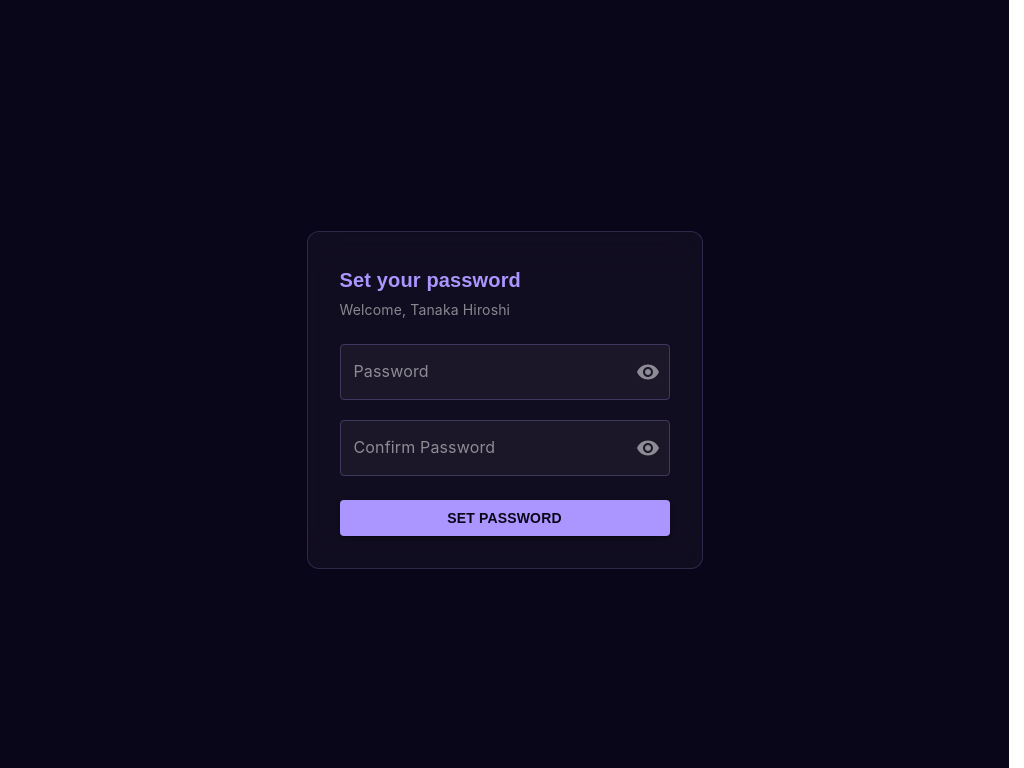
Test case: SetPassword › valid token › shows a validation error when passwords do not match
The width and height of the screenshot is (1024, 768).
In the password field labelled "Password": x=480, y=372 [340, 344, 620, 400], type "ValidPass1!"
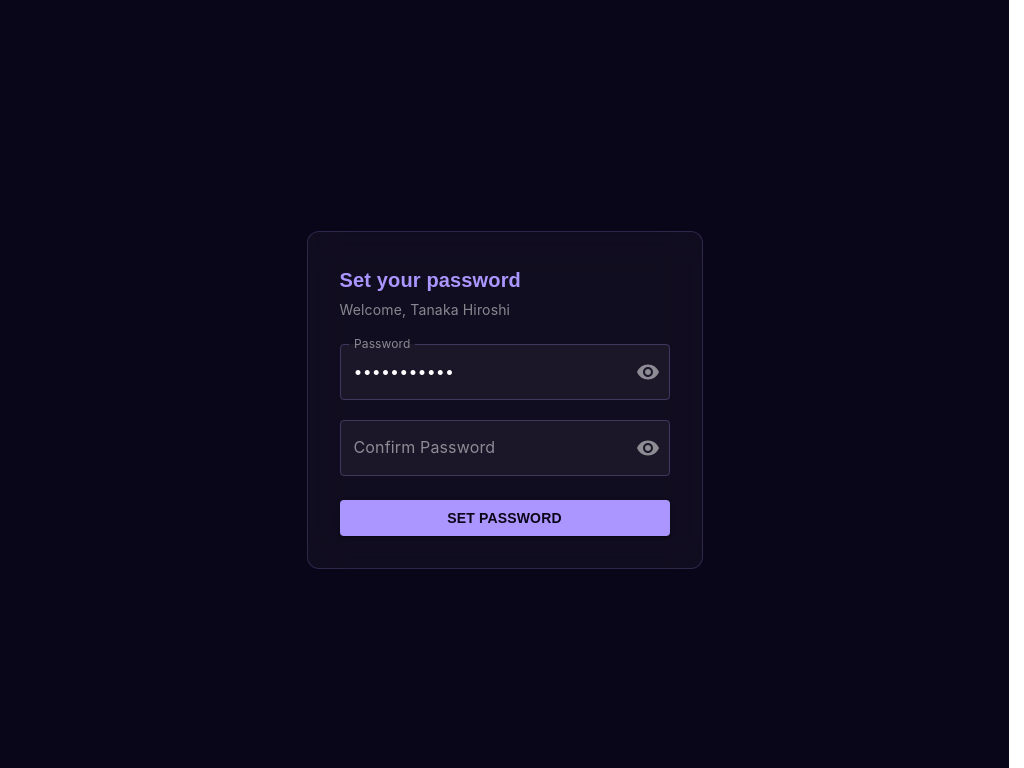
In the password field labelled "Confirm Password": x=480, y=448 [340, 420, 620, 476], type "DifferentPass2!"
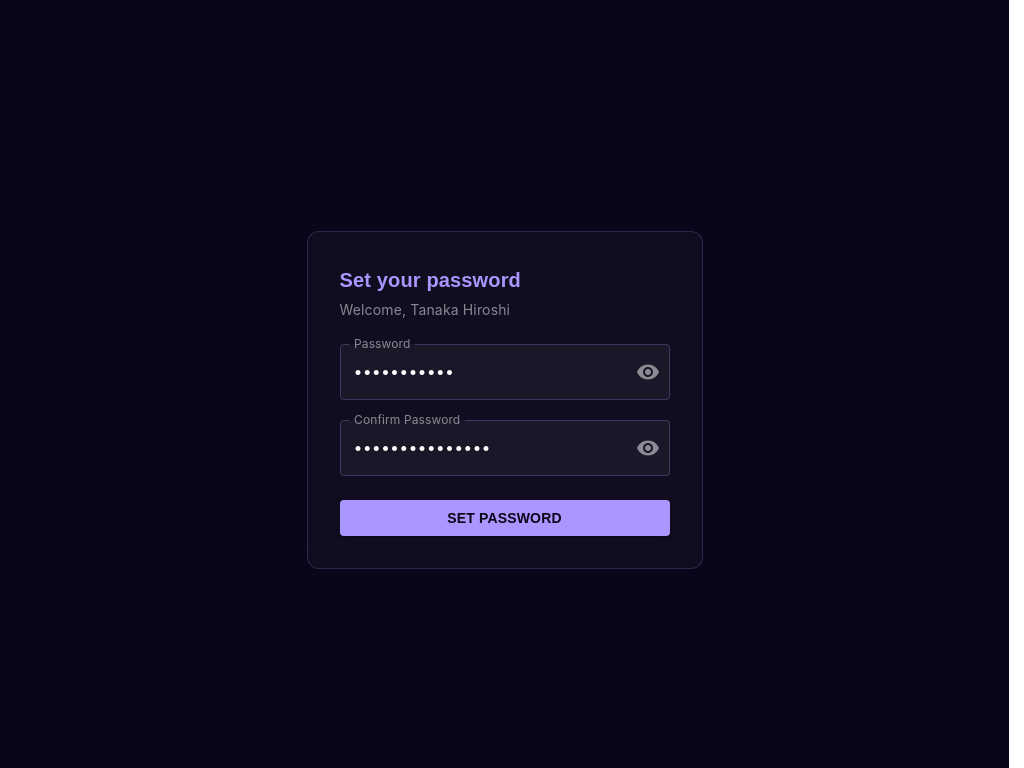
Click the button "Set password": x=504, y=518 [340, 500, 670, 536]
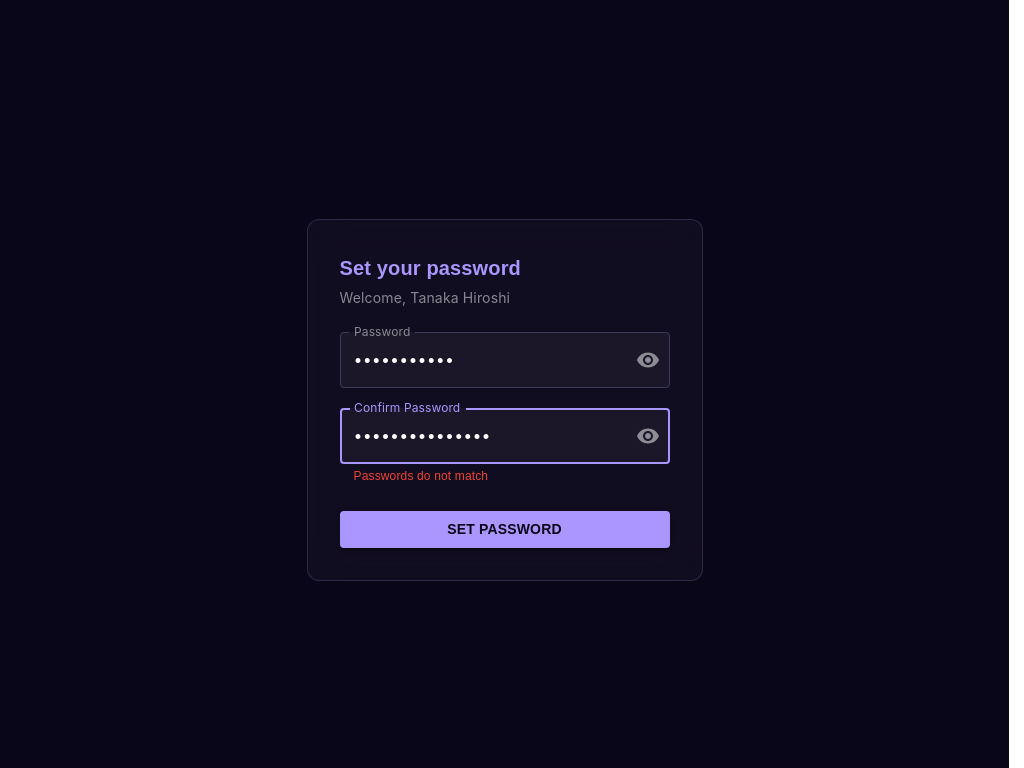
Expected: the text "Passwords do not match" is shown, [354, 469, 488, 483]
